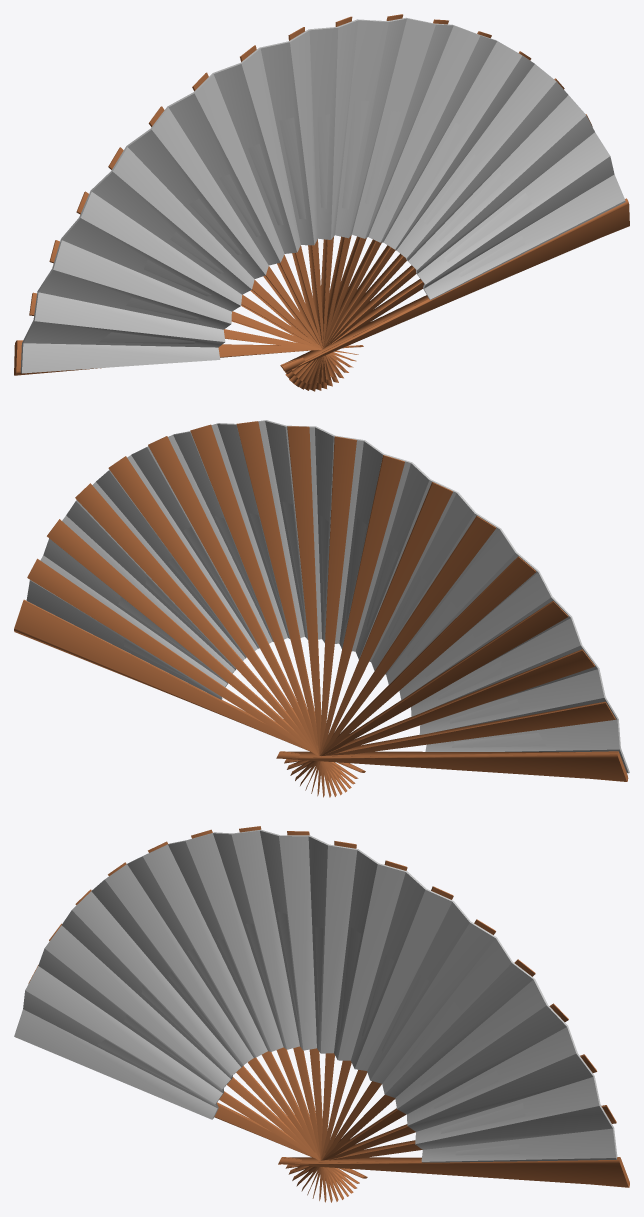
The model's file is FanMaya.fbx.
3 renders of one model, top to bottom at view 1: azimuth 30°, elevation 25°; view 2: azimuth 150°, elevation 25°; view 3: azimuth 330°, elevation 25°, orthographic.
Visible parts, largest first — view 1: polySurface1; view 2: polySurface1; view 3: polySurface1.
Boxes of the visible parts, x1,y1,x2,y2 form: polySurface1: [14, 14, 629, 391]; polySurface1: [14, 420, 629, 797]; polySurface1: [14, 826, 629, 1202].
Bounding box in the file's own units: 23.3 × 13.22 × 0.7041.
